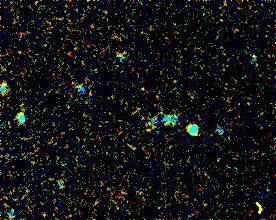star: (239, 41, 269, 71)
